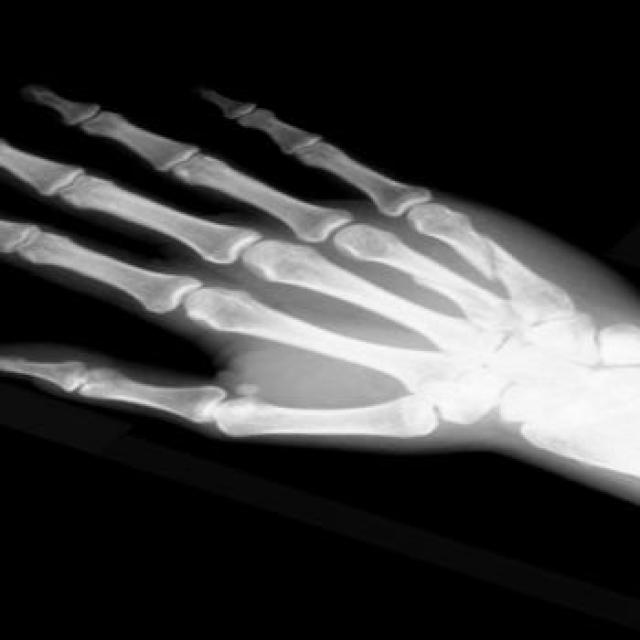Fracture: (468, 229, 525, 285)
